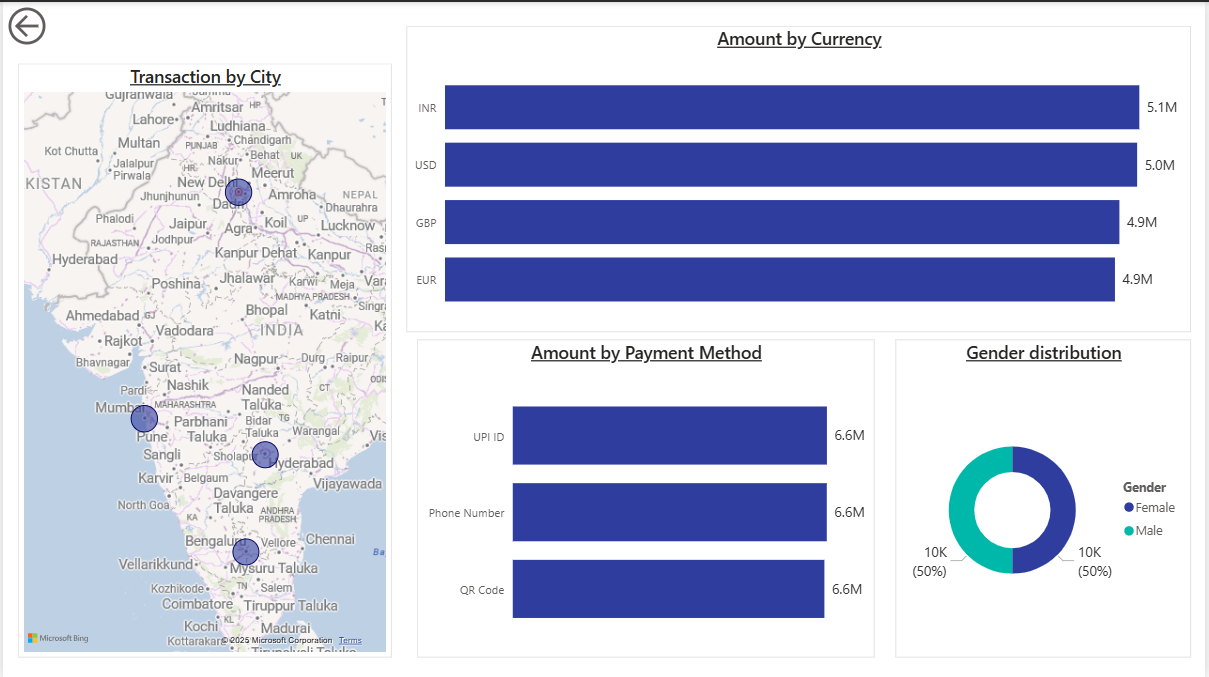

This screenshot's page, from the dashboard's own definition file:
{"tool":"powerbi","page":{"name":"Customer","canvas":[1280,720],"ordinal":1},"visuals":[{"type":"map","title":"Transaction by City","fields":{"Category":["UPI.City"],"Size":["Sum(UPI.Amount)"]},"box":[30.4,68.7,397.8,632.7],"z":0},{"type":"donutChart","title":"Gender distribution","fields":{"Category":["UPI.Gender"],"Y":["CountNonNull(UPI.Gender)"]},"box":[950.6,359.5,314.7,338.7],"z":1000},{"type":"clusteredBarChart","title":"Amount by Currency","fields":{"Category":["UPI.Currency"],"Y":["Sum(UPI.Amount)"]},"box":[441.7,16.7,823.3,325],"z":2000},{"type":"barChart","title":"Amount by Payment Method","fields":{"Category":["UPI.PaymentMethod"],"Y":["Sum(UPI.Amount)"]},"box":[441,359.5,487.3,338.7],"z":3000},{"type":"actionButton","box":[0,0,118.2,51.1],"z":3001}]}

Visuals, with their boxes in screenshot pixels (x1, y1, x2, y2), scaled from the page's 1280x720 canvas onto the 1209x677 screenshot:
"Transaction by City" map: region(29, 65, 404, 660)
"Gender distribution" donutChart: region(898, 338, 1195, 657)
"Amount by Currency" clusteredBarChart: region(417, 16, 1195, 321)
"Amount by Payment Method" barChart: region(417, 338, 877, 657)
actionButton: region(0, 0, 112, 48)
